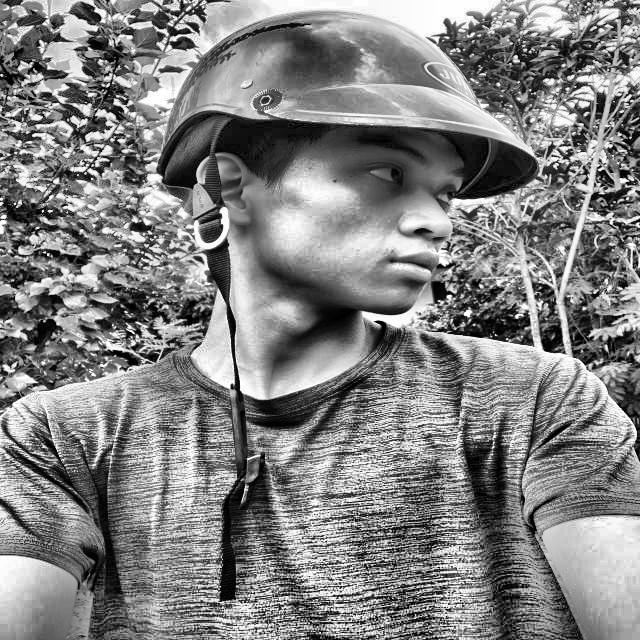Helmet: (152, 12, 514, 366)
